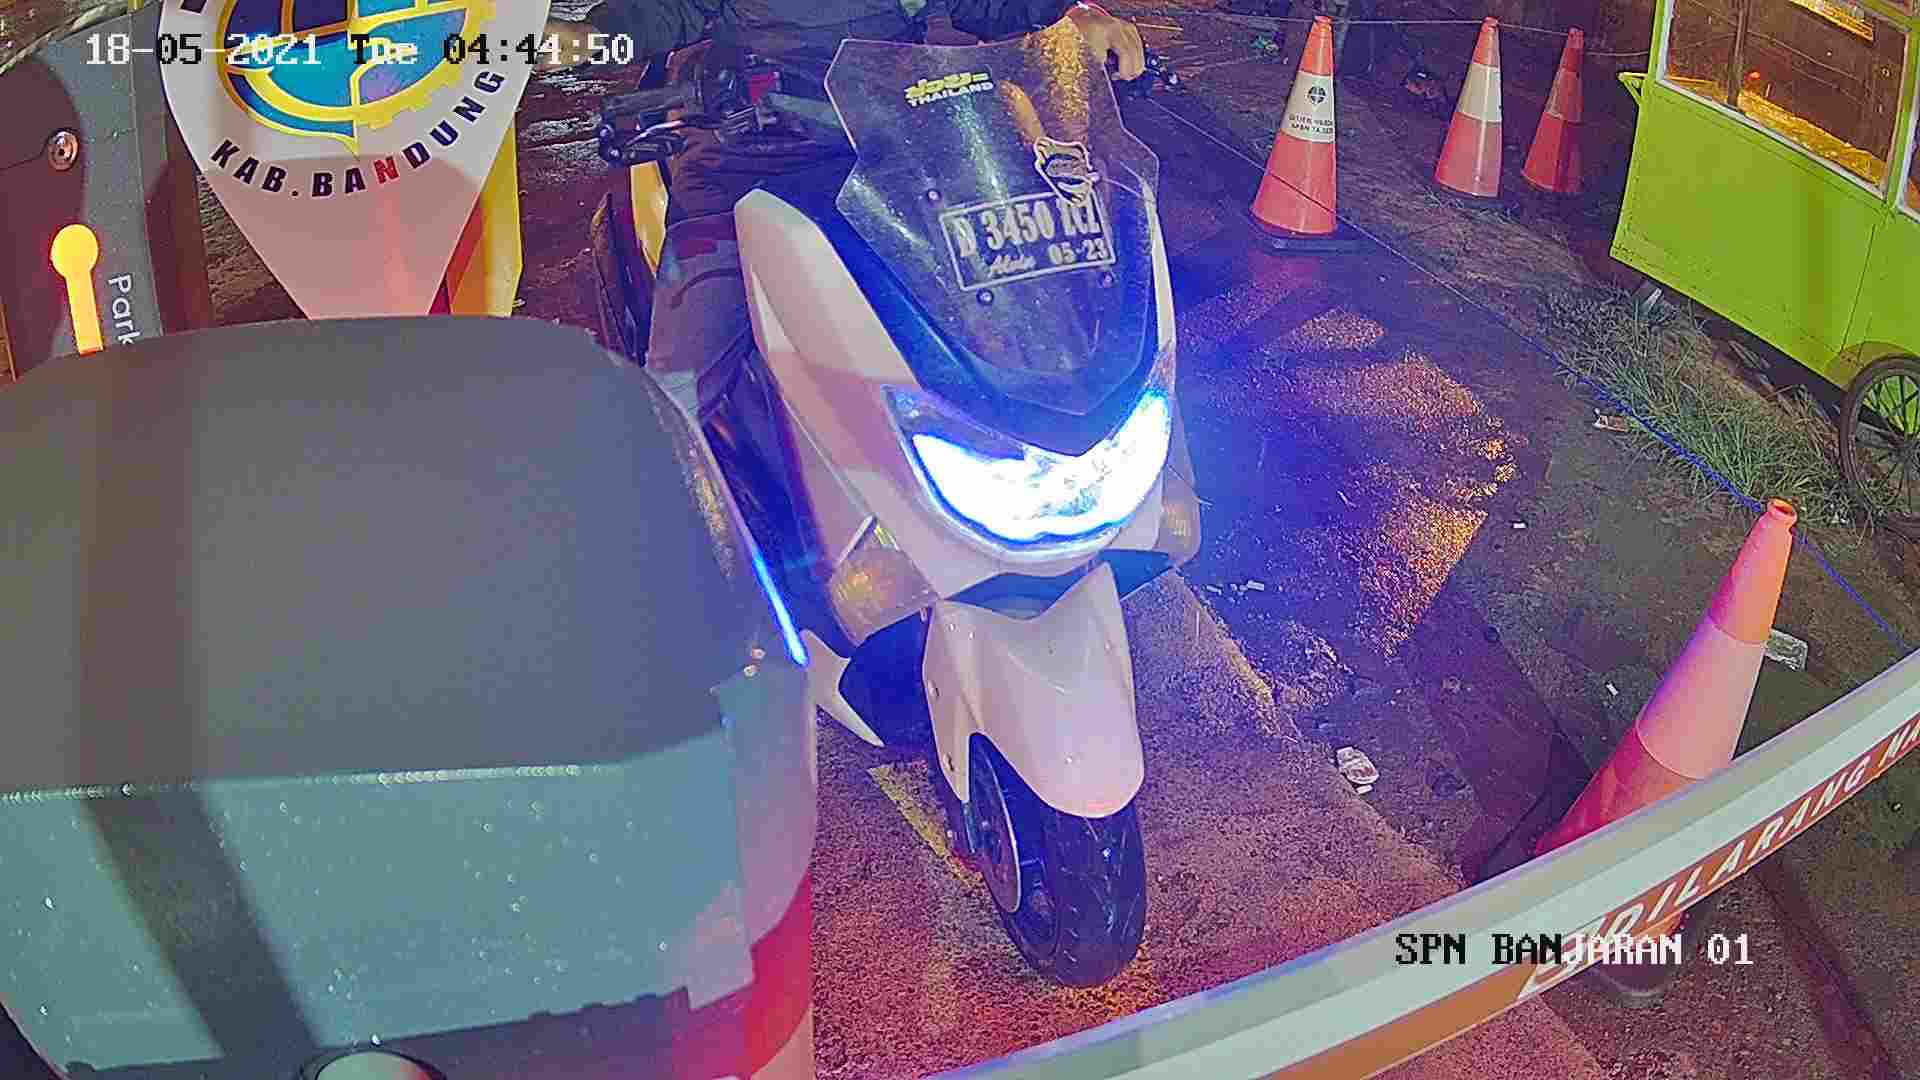motor: (615, 63, 1313, 996)
